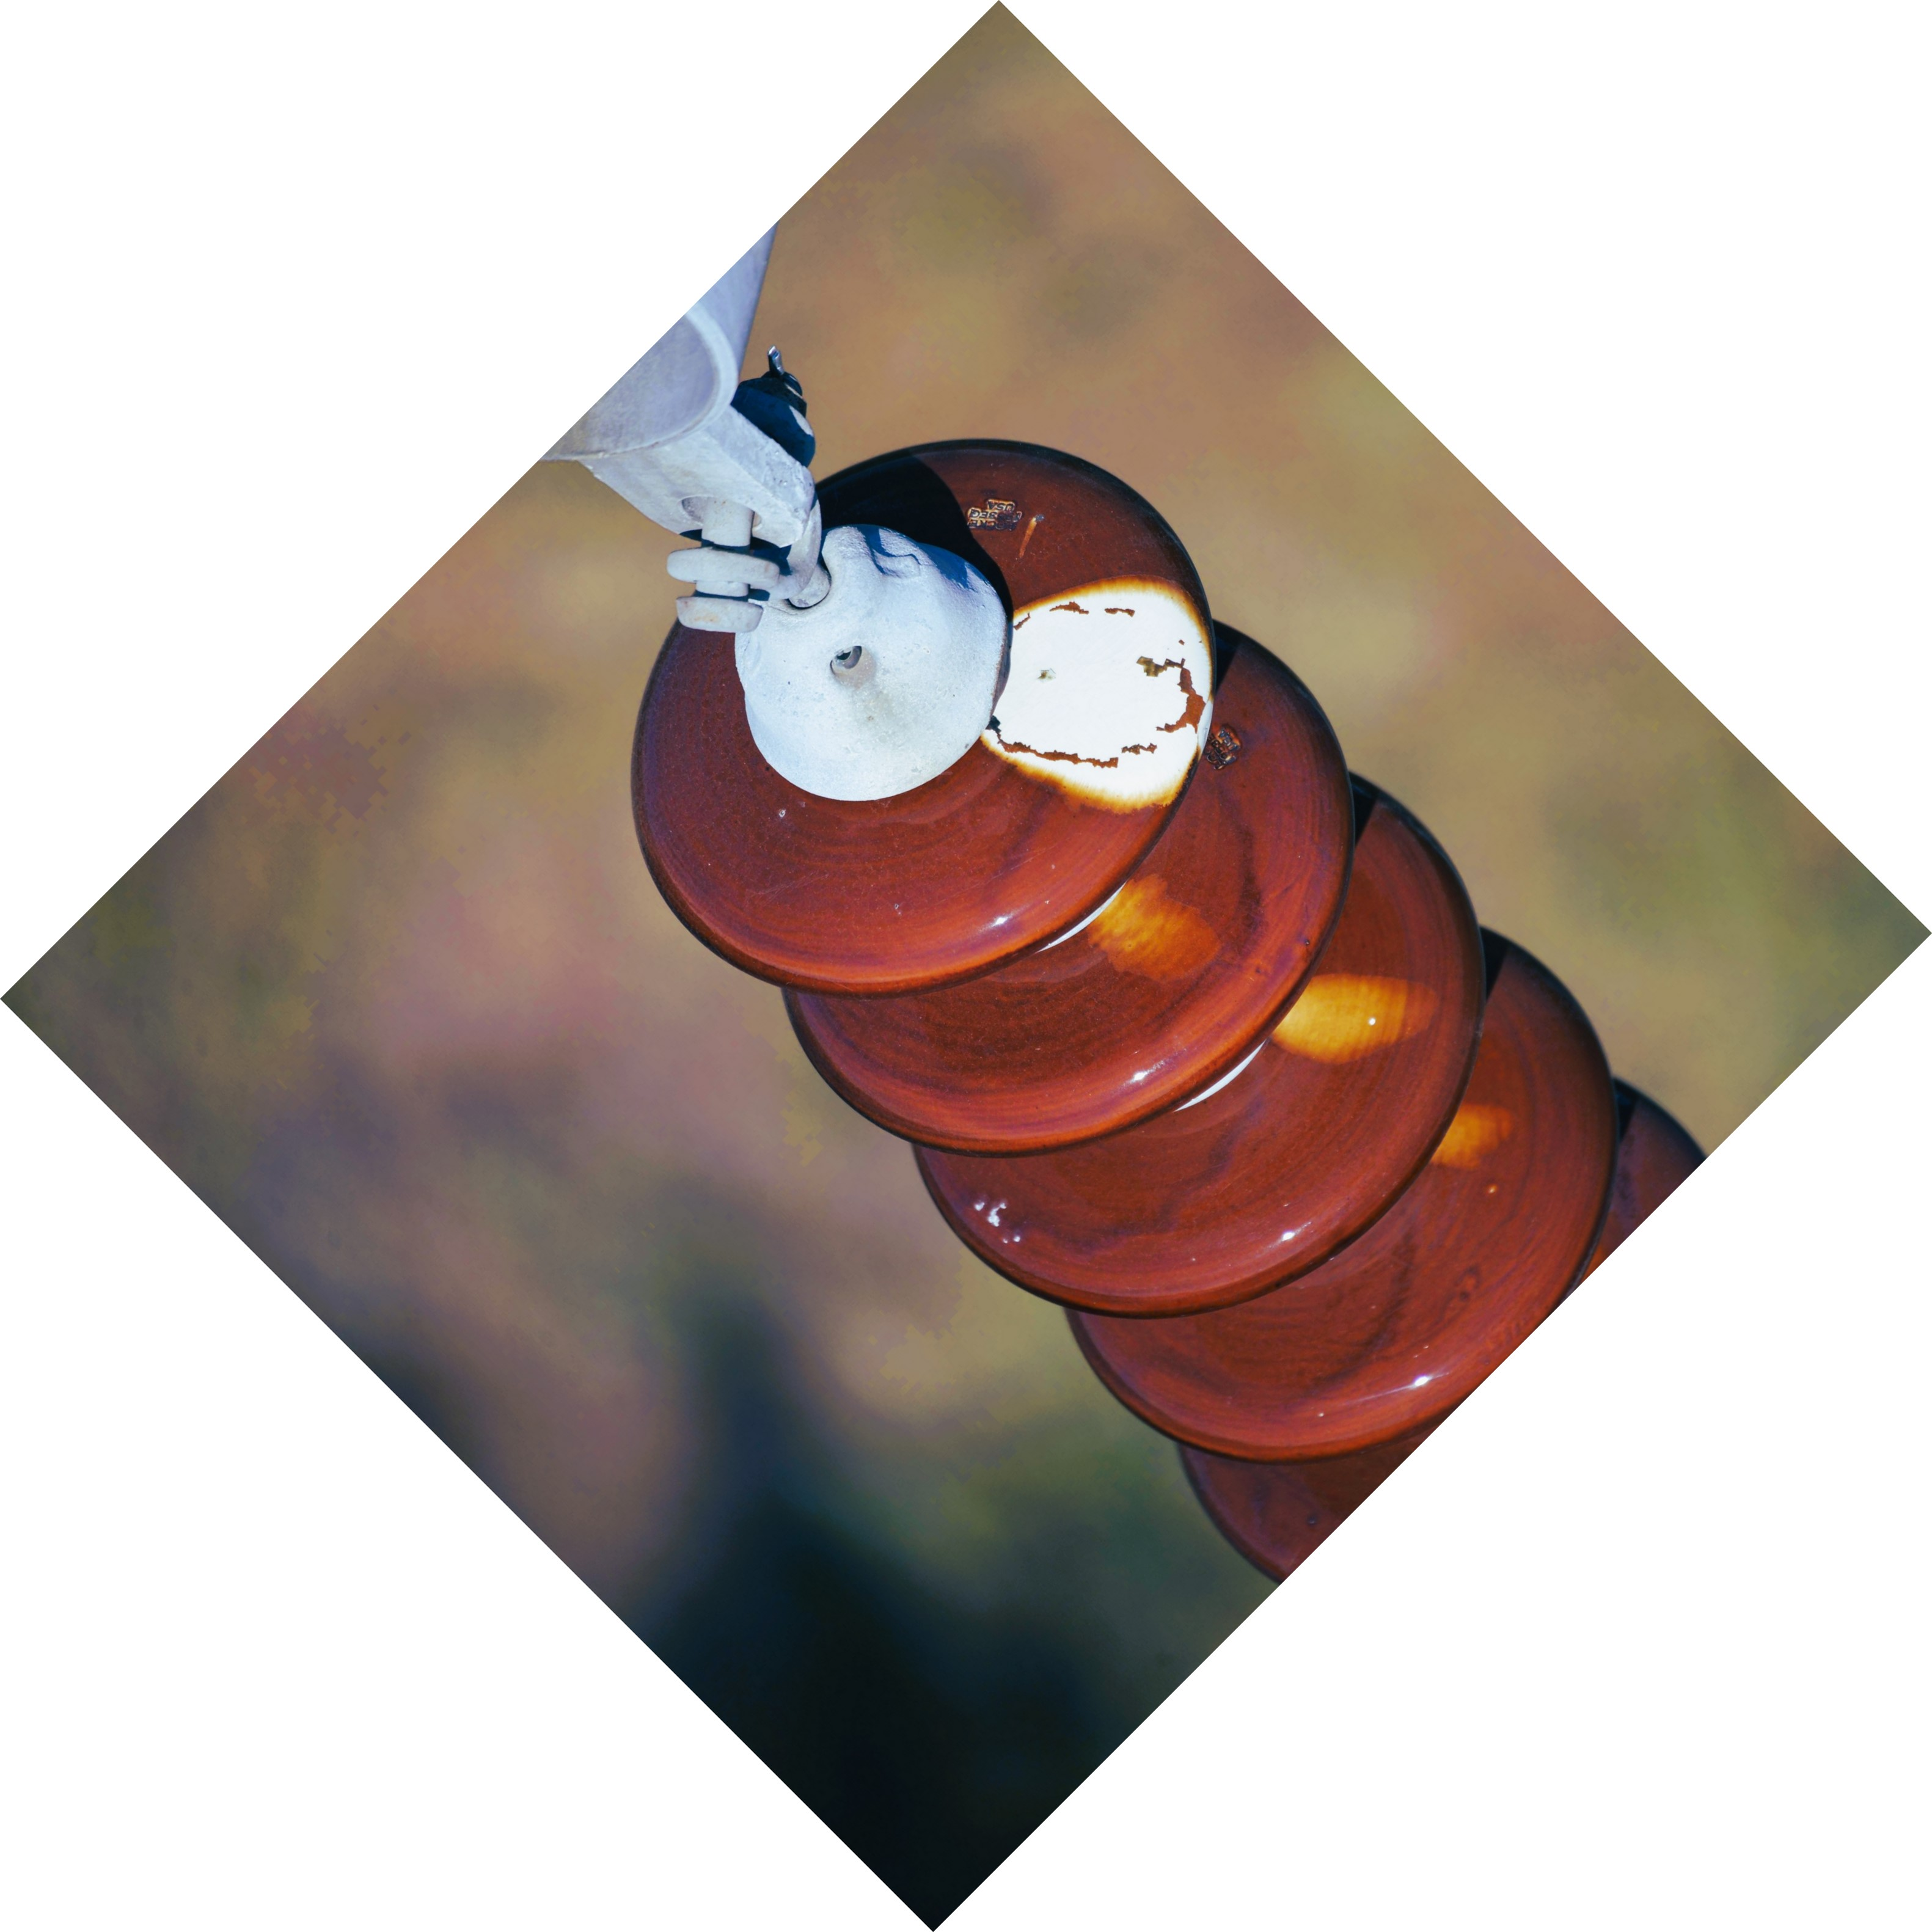Insulator flashover: (610, 430, 1235, 1010)
